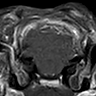Brain: (25, 29, 71, 76)
